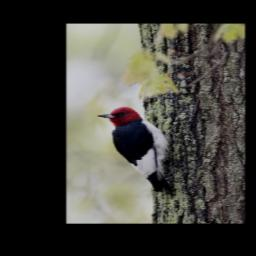Woodpecker: (97, 106, 171, 194)
